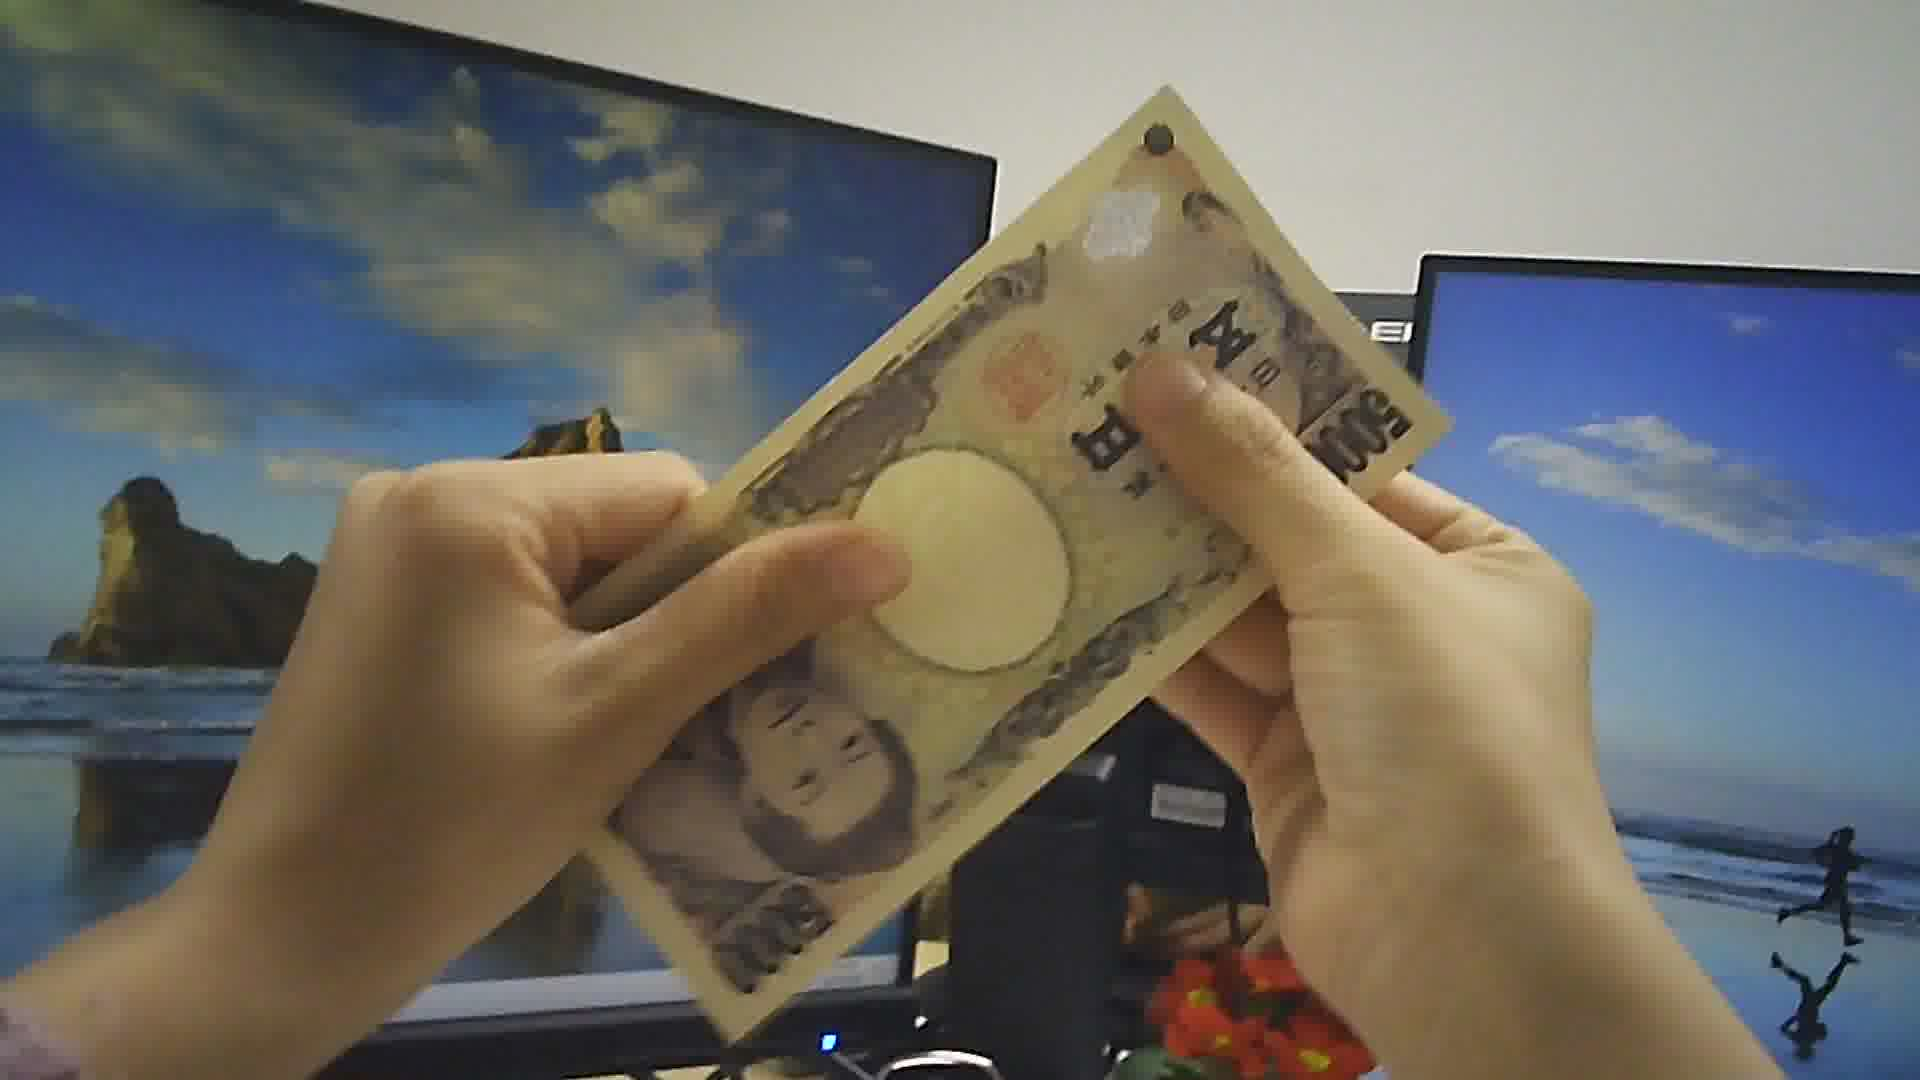5,000 Yen: (469, 55, 1447, 1034)
